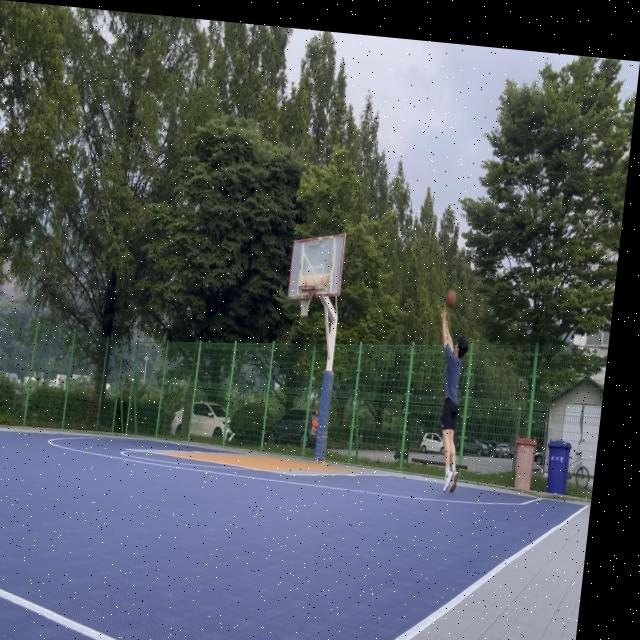basketball: (444, 288, 458, 309)
hoop: (295, 284, 315, 320)
